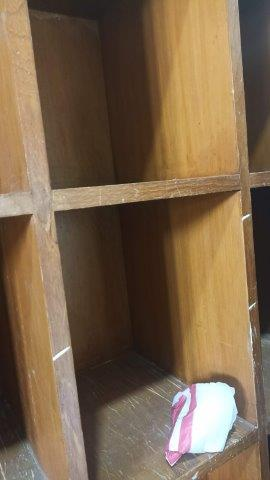plastik: (164, 382, 242, 464)
